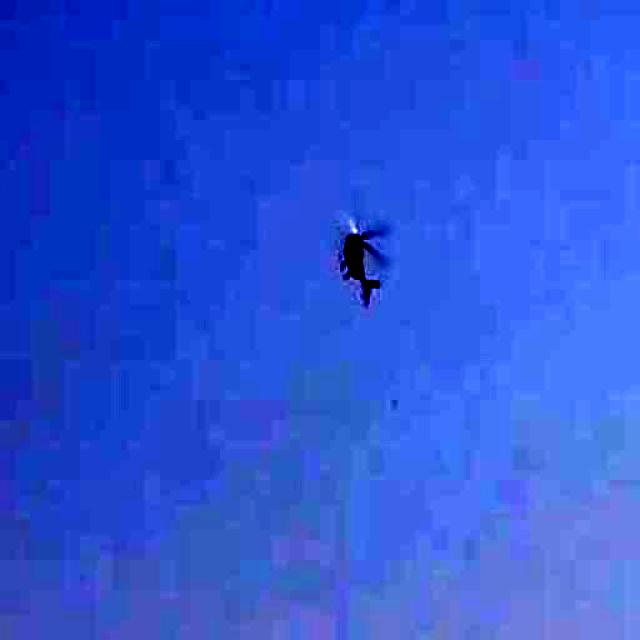drone: (298, 168, 410, 326)
